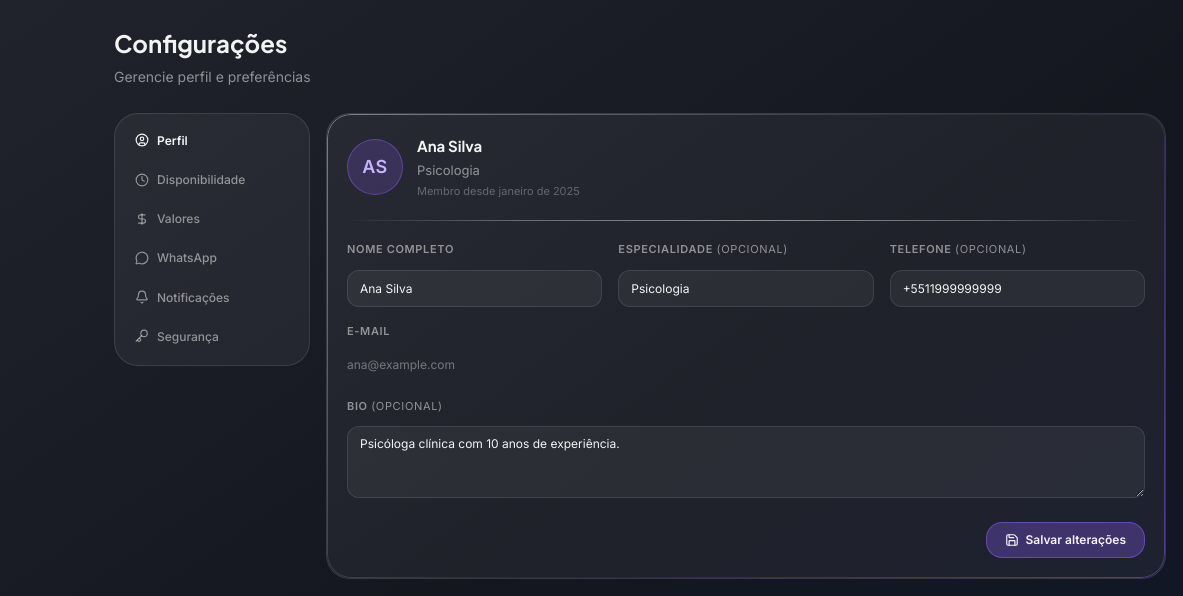
Test: SettingsPage › desabilita o botão "Salvar alterações" durante o envio
Expected: the field showing "Ana Silva" is shown, x1=347 y1=270 x2=602 y2=307
Click the button "Salvar alterações" at (1066, 540), box x1=986 y1=522 x2=1145 y2=558
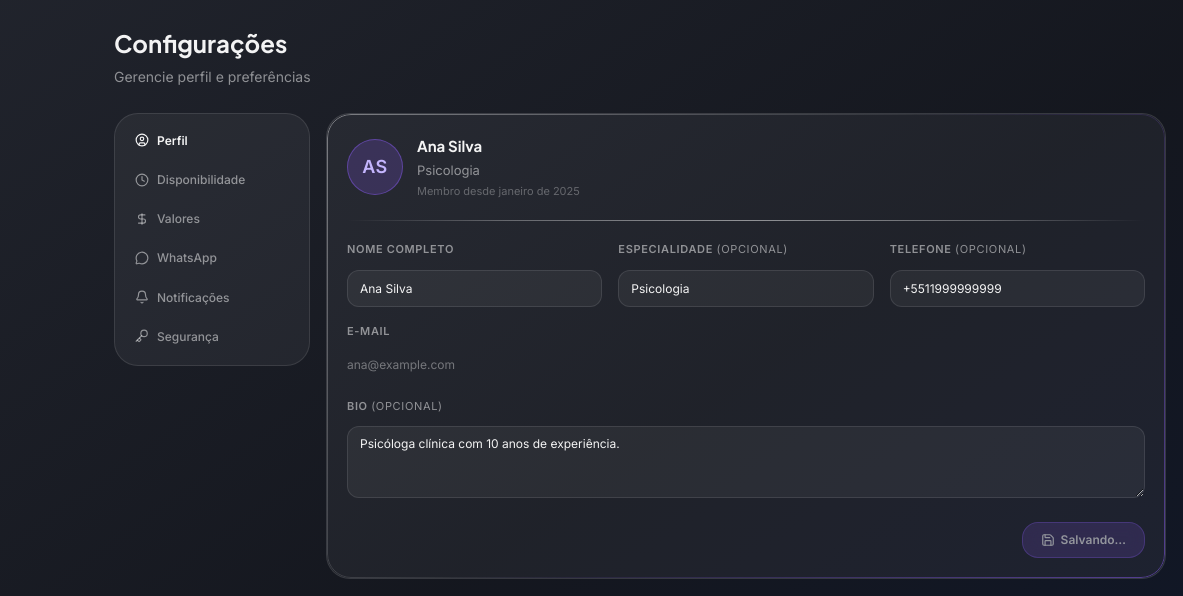
Expected: the button "Salvando…" is disabled, x1=1022 y1=522 x2=1145 y2=558
